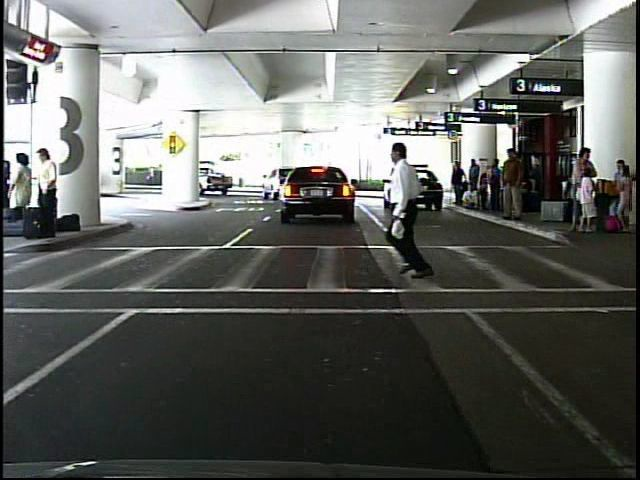person: (379, 133, 446, 288), (9, 150, 41, 239), (36, 146, 64, 242), (499, 145, 529, 225), (449, 160, 466, 205), (146, 162, 158, 188)
